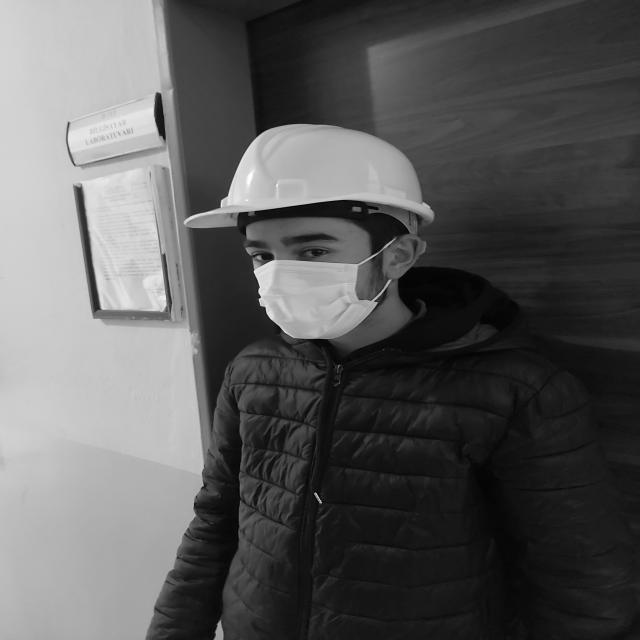safety_helmet: (188, 133, 436, 233)
